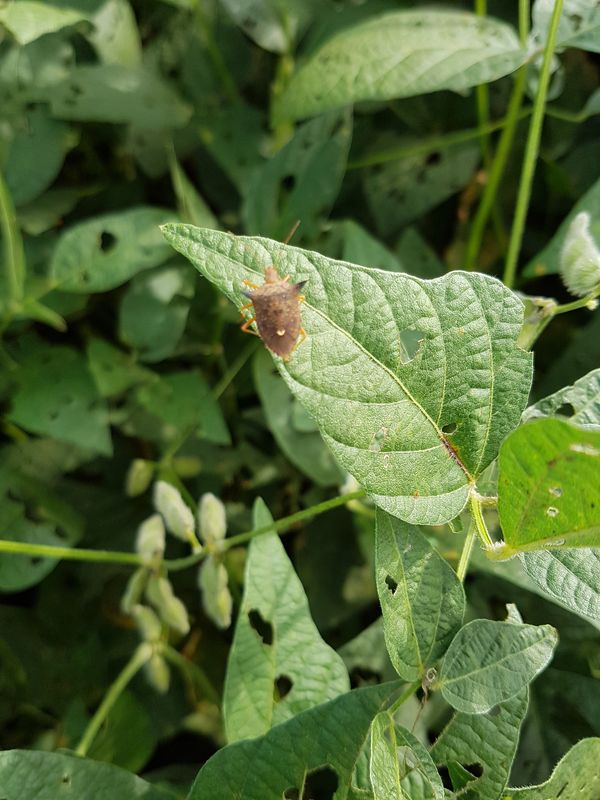Euschistus_heros_adulto: (216, 219, 325, 372)
